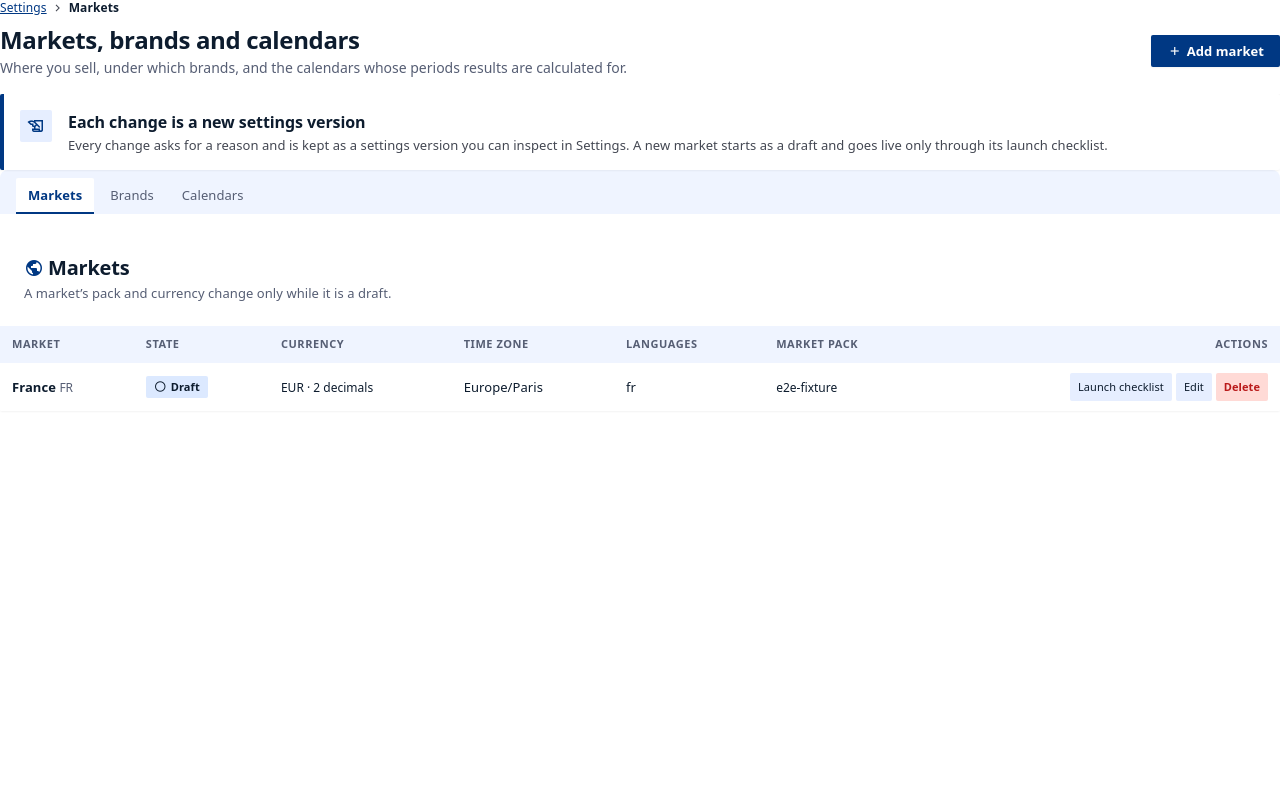
Test: MarketsPage › edits only the changed fields with PATCH
Click the button with aria-label "Edit market FR" at (1194, 386), box [1176,372,1212,400]
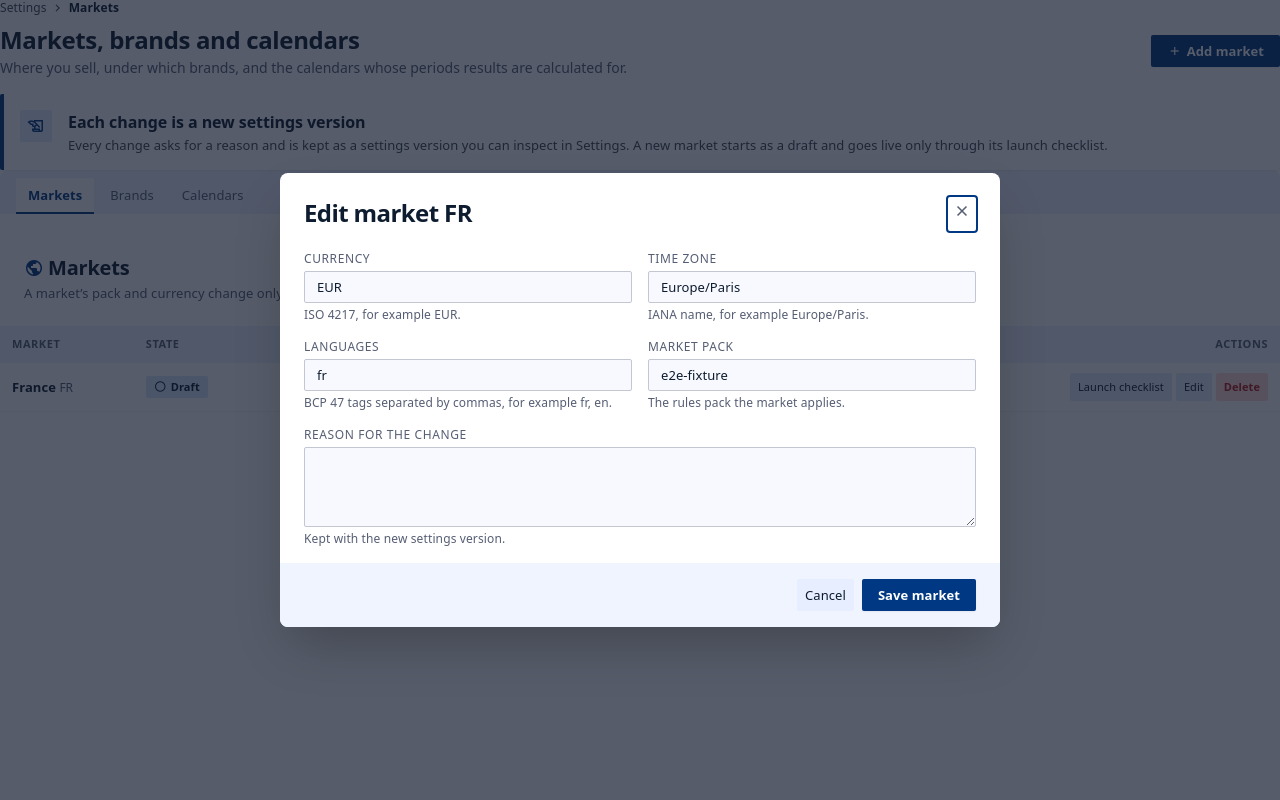
Replace the text in the field labelled "Languages" with "fr, en" at (468, 375), box [304,359,632,391]
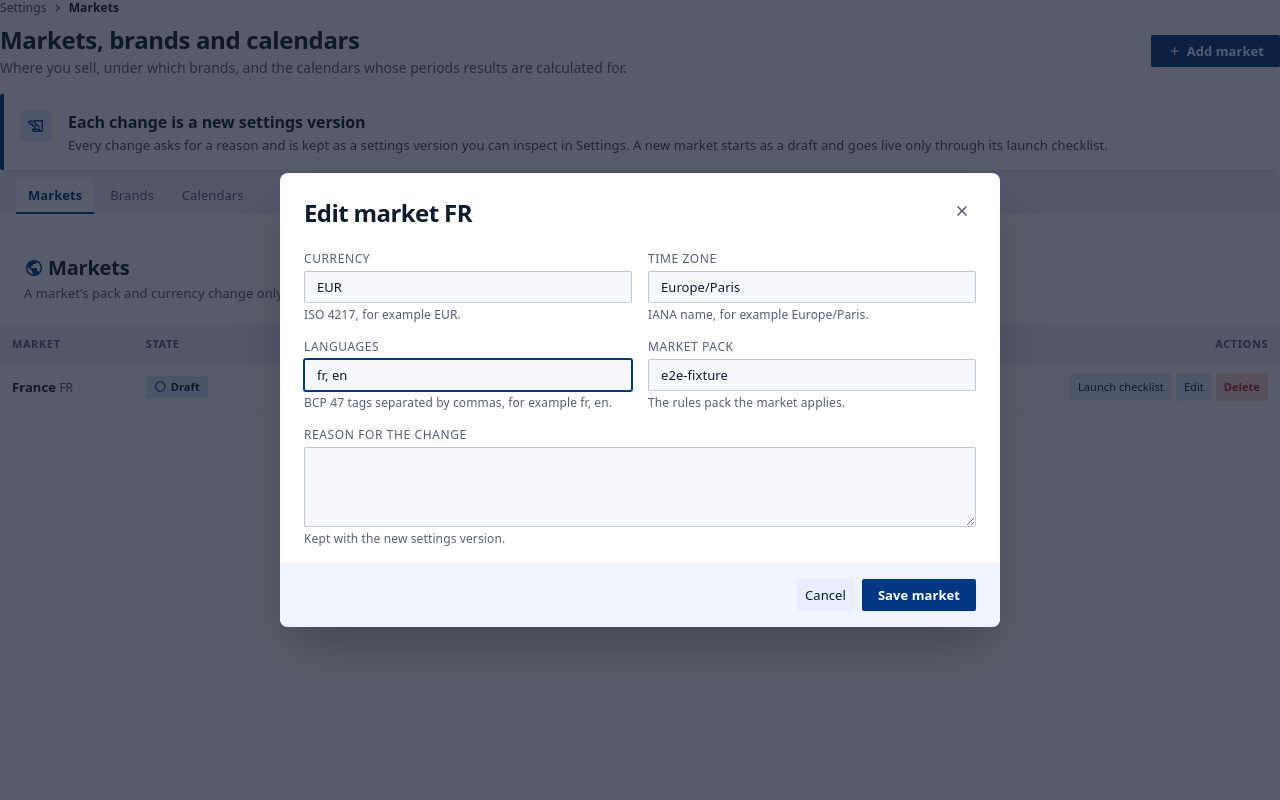
Type "English too" into the text box labelled "Reason for the change" at (640, 487), box [304,447,976,527]
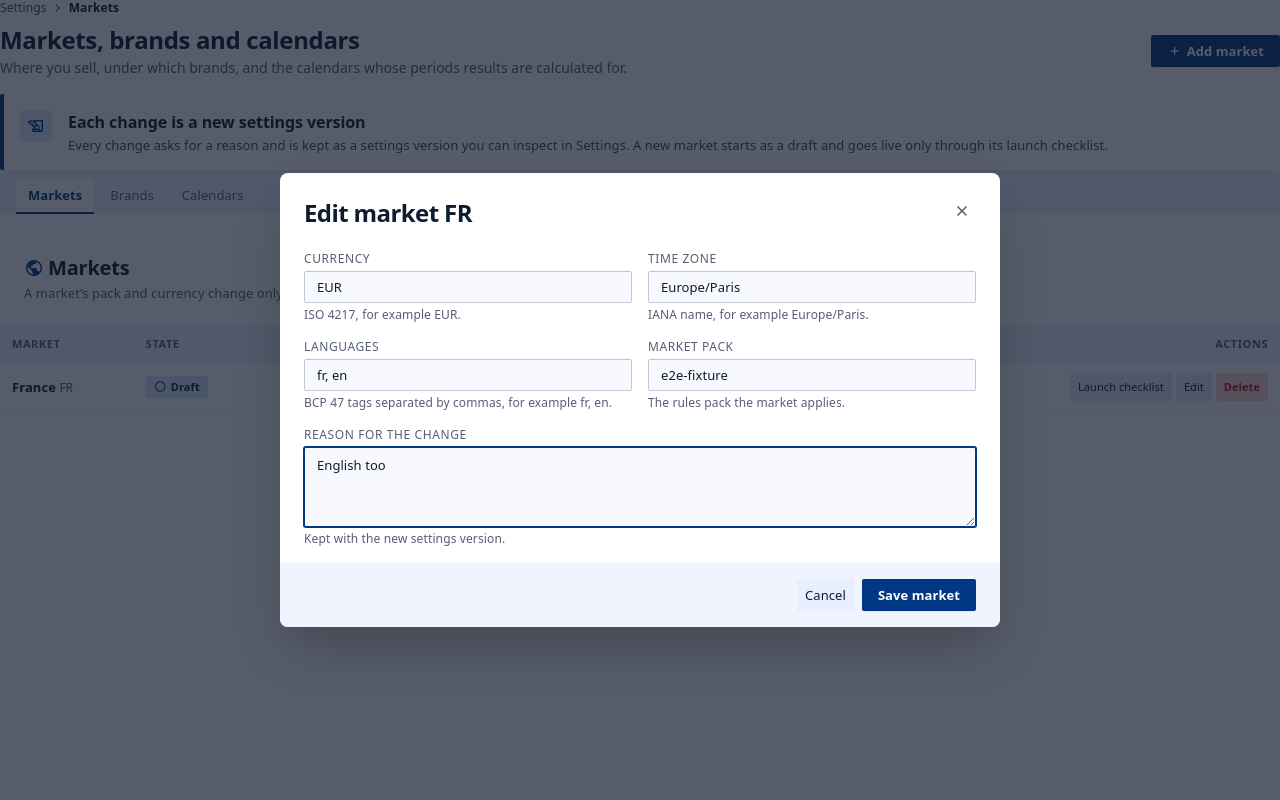
Click the button "Save market" at (919, 595), box [862,579,976,611]
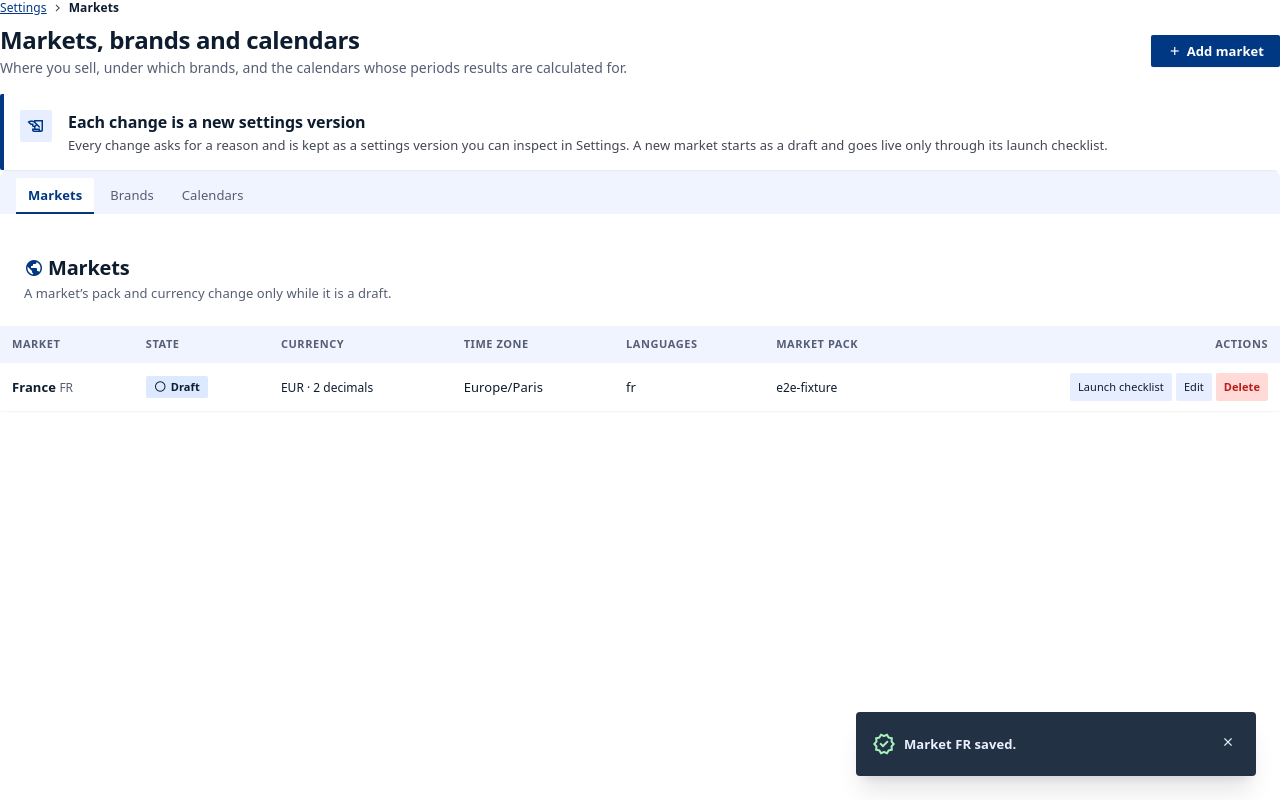
Result: the text "Market FR saved." is shown at [904,735,1016,753]
